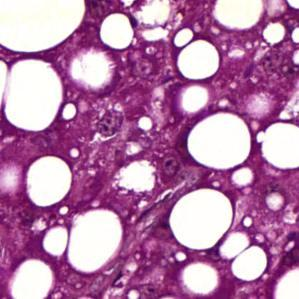steatosis: (170, 190, 236, 252), (66, 207, 124, 274), (187, 115, 256, 170), (21, 154, 73, 205), (175, 41, 220, 81), (99, 11, 135, 51)
